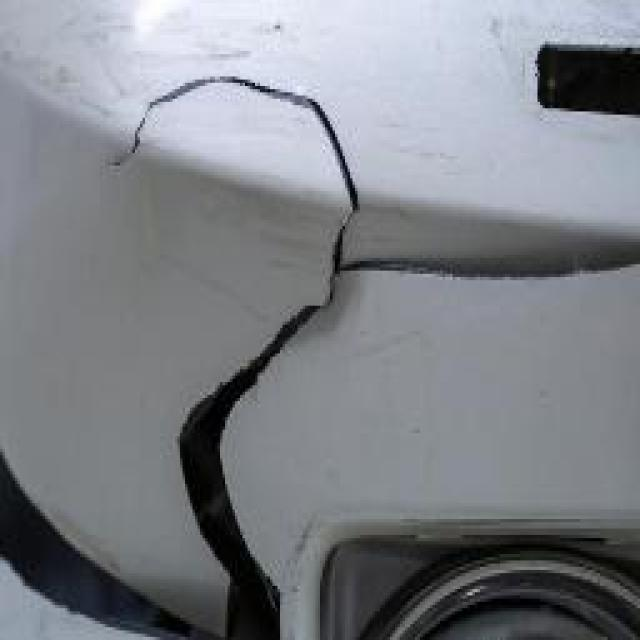Bumper: (22, 25, 548, 640)
